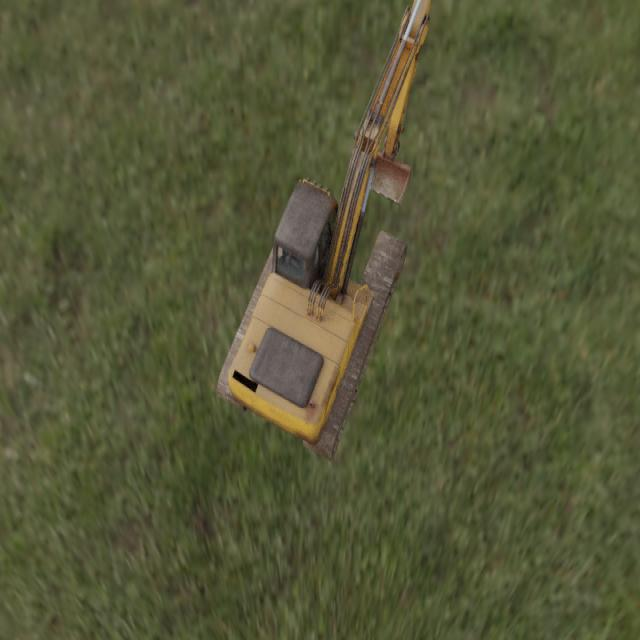excavator: (216, 0, 431, 463)
